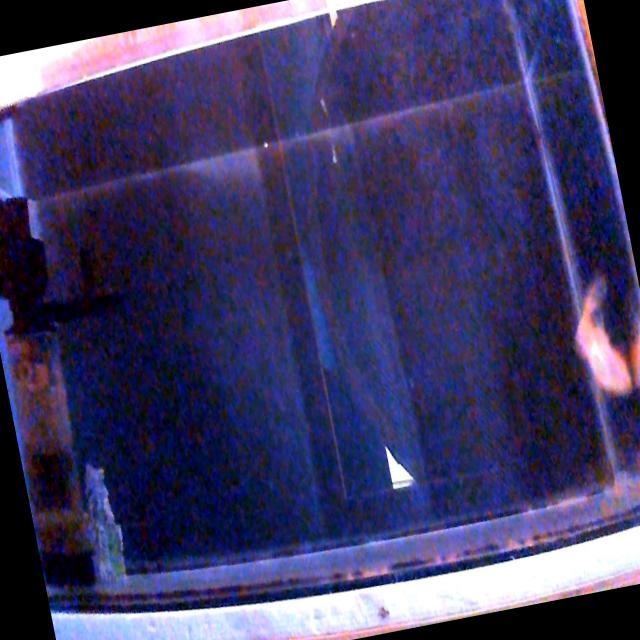fish: (564, 268, 633, 402), (620, 314, 640, 388)
